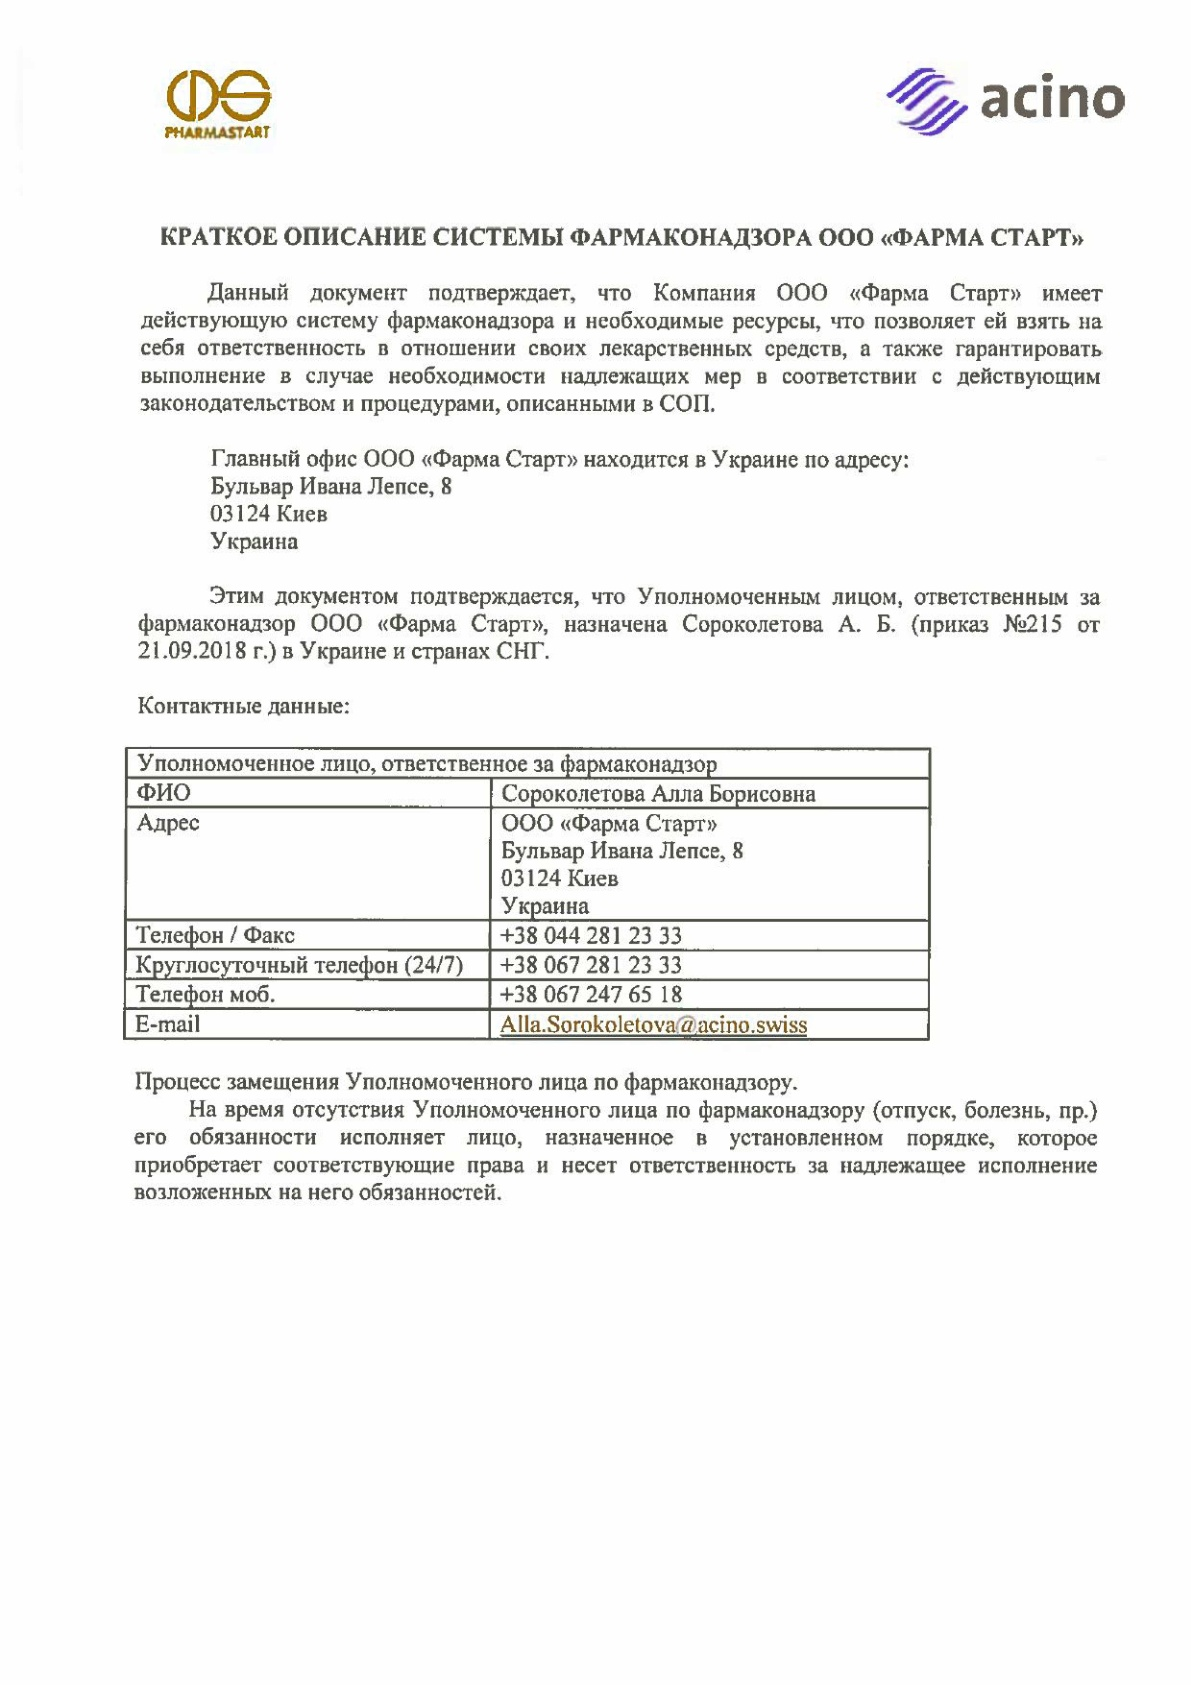merged_cells: (123, 746, 931, 1039)
